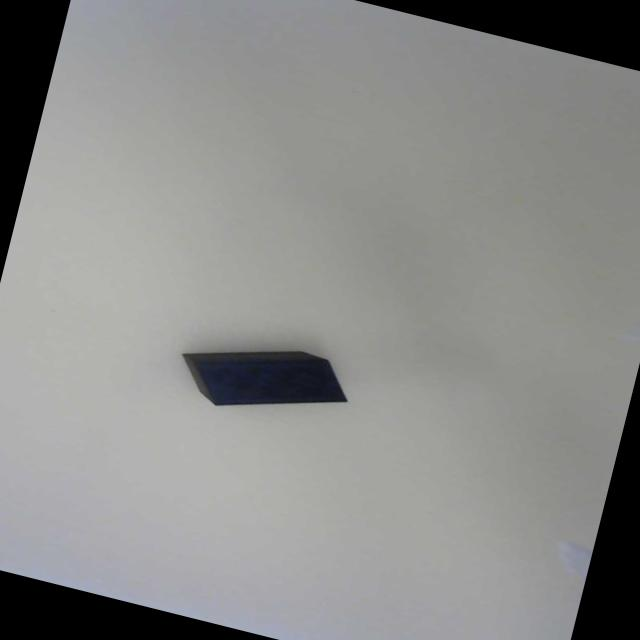rectangle: (193, 357, 346, 405)
